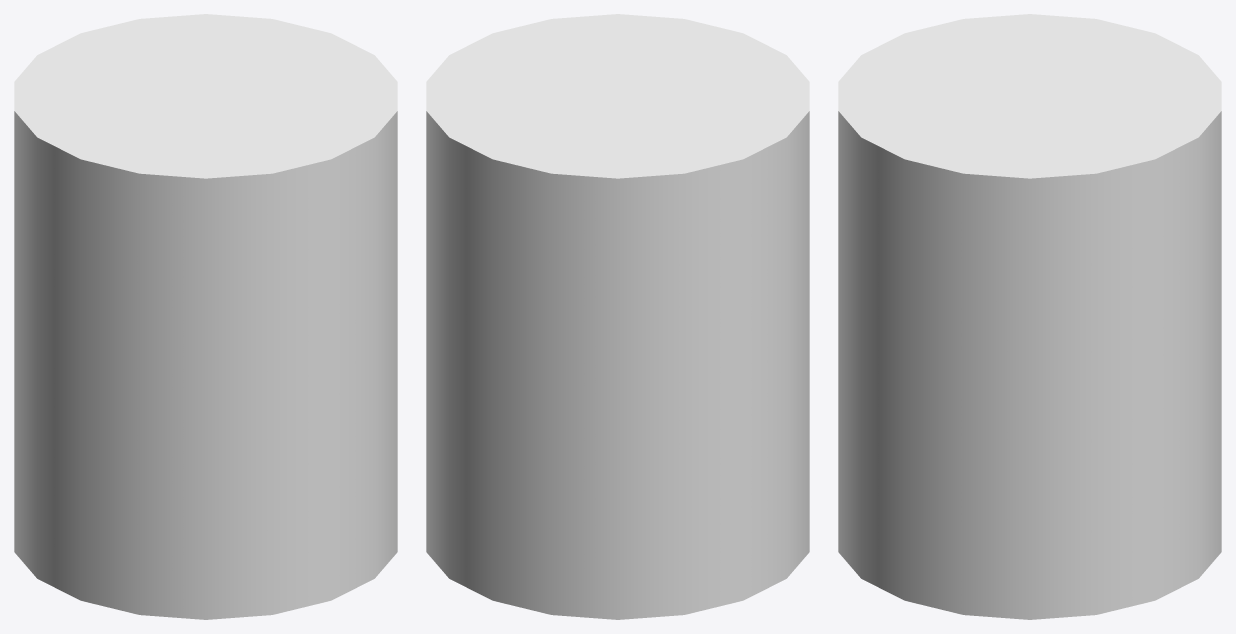
File: OptimizeBaseModel.FBX
3 renders of one model, left to right at view 1: azimuth 30°, elevation 25°; view 2: azimuth 150°, elevation 25°; view 3: azimuth 270°, elevation 25°, orthographic.
Parts seen in each view (by area): view 1: Cylinder001; view 2: Cylinder001; view 3: Cylinder001.
Part boxes in pixels (left/top/right/bottom): Cylinder001: left=14, top=14, right=397, bottom=619; Cylinder001: left=426, top=14, right=809, bottom=619; Cylinder001: left=838, top=14, right=1221, bottom=619.
Bounding box in the file's own units: 8 × 10 × 7.88.
Materials: 1 (1 with a texture image).
